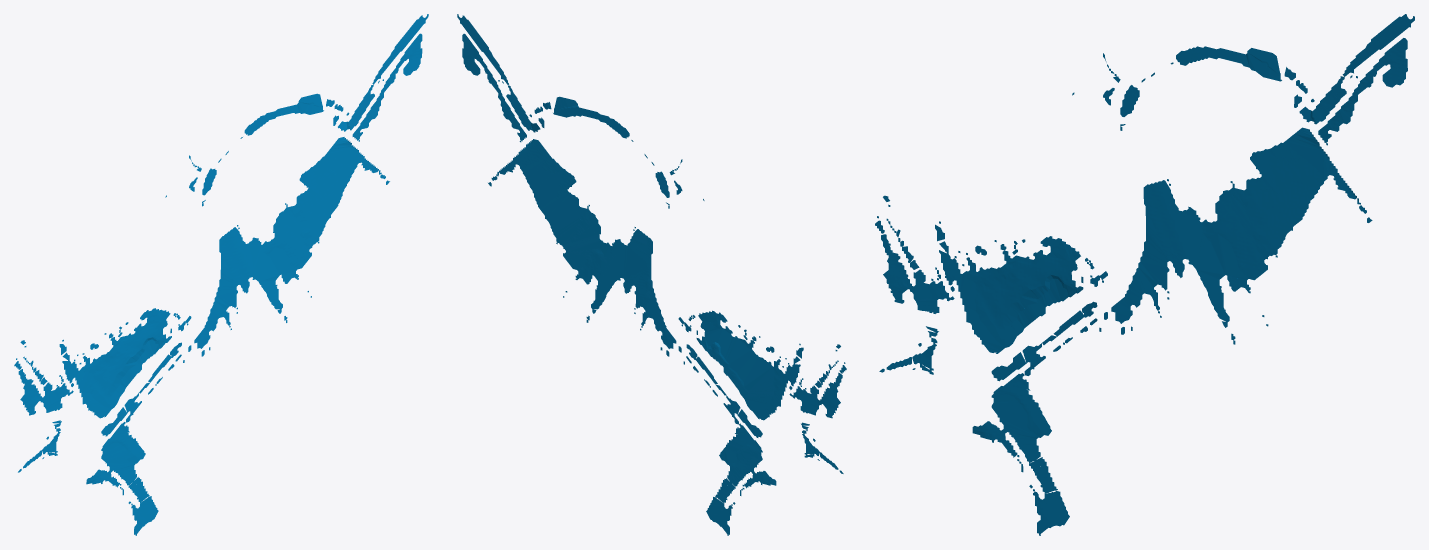
File: flood5.glb
3 views of the same model, side by side, from view 1: azimuth 30°, elevation 25°; view 2: azimuth 150°, elevation 25°; view 3: azimuth 330°, elevation 25° (orthographic). The views are drawn at different scales.
Size of the model in its own units: 1410 by 1520 by 48.18.
